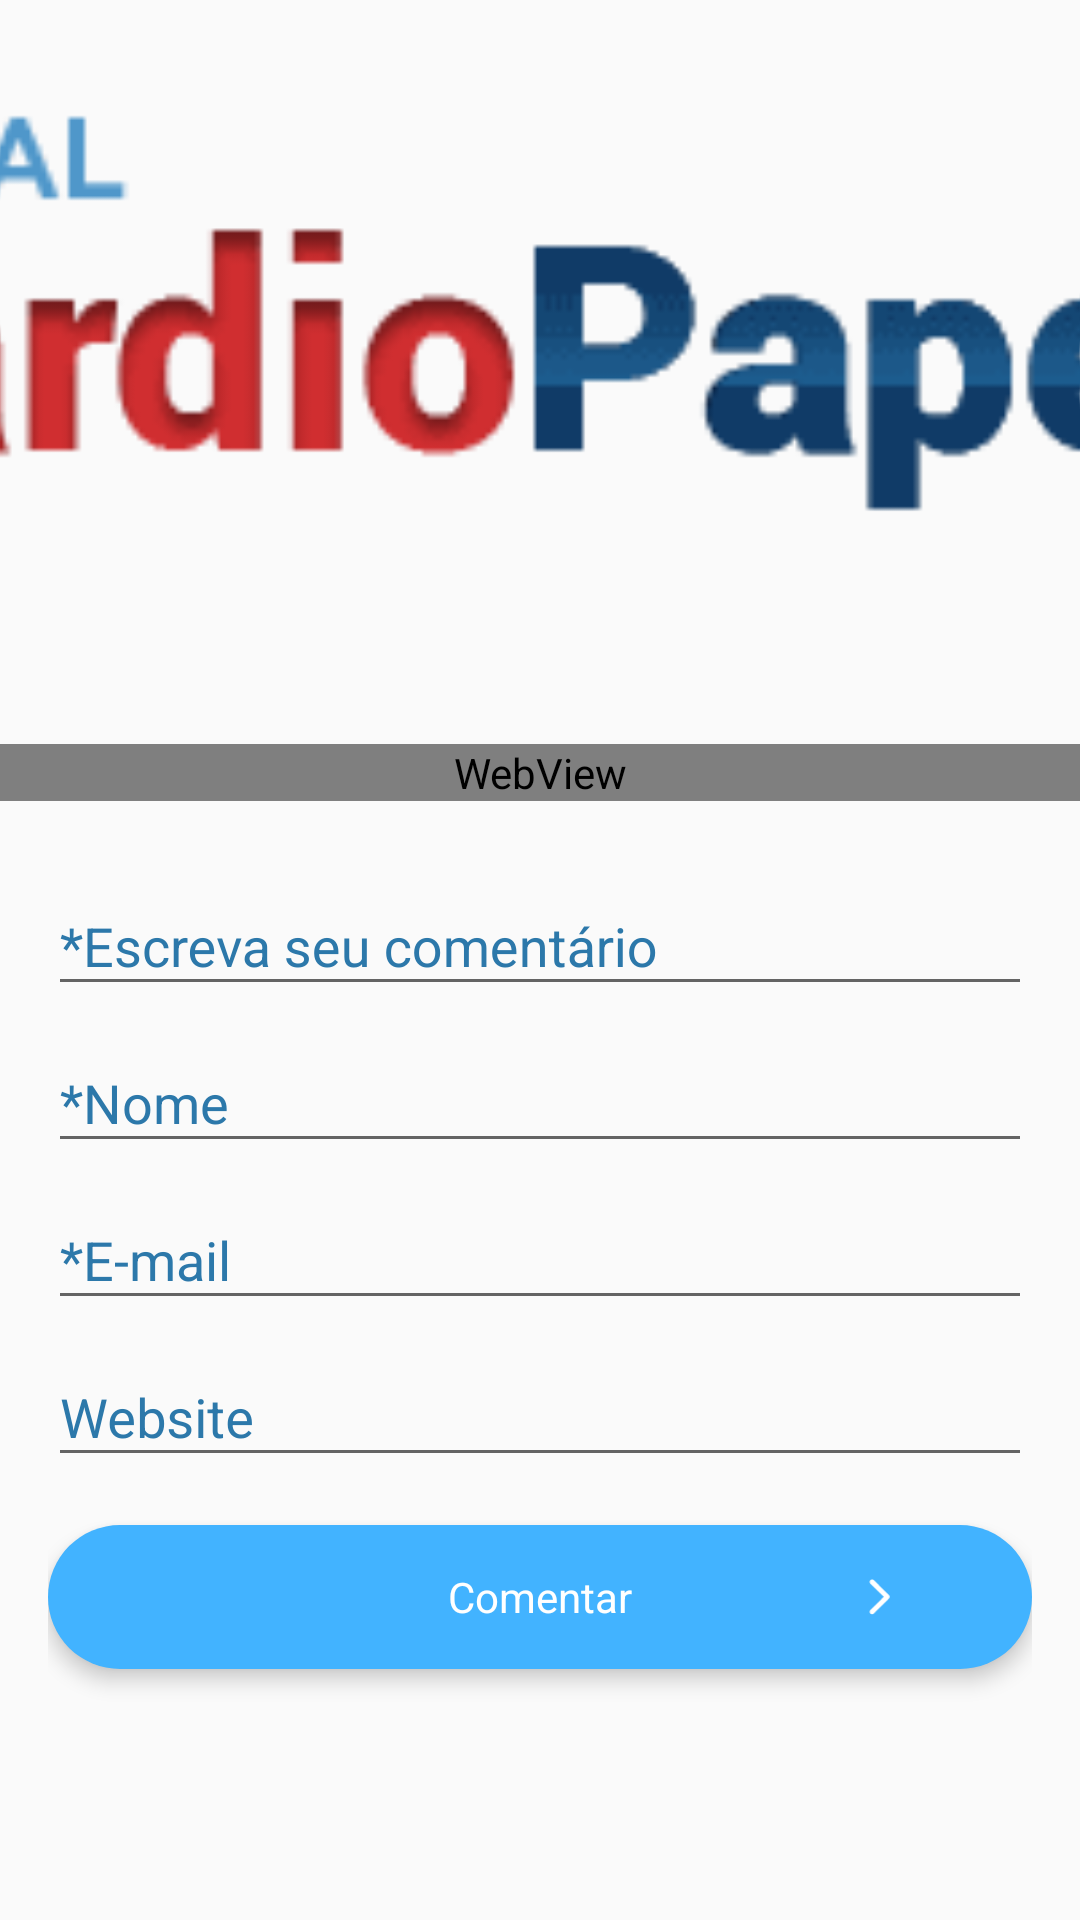

Where to tap for icons on this 1080*1920 app screen, as point (x, y):
arrow: point (879, 1597)
